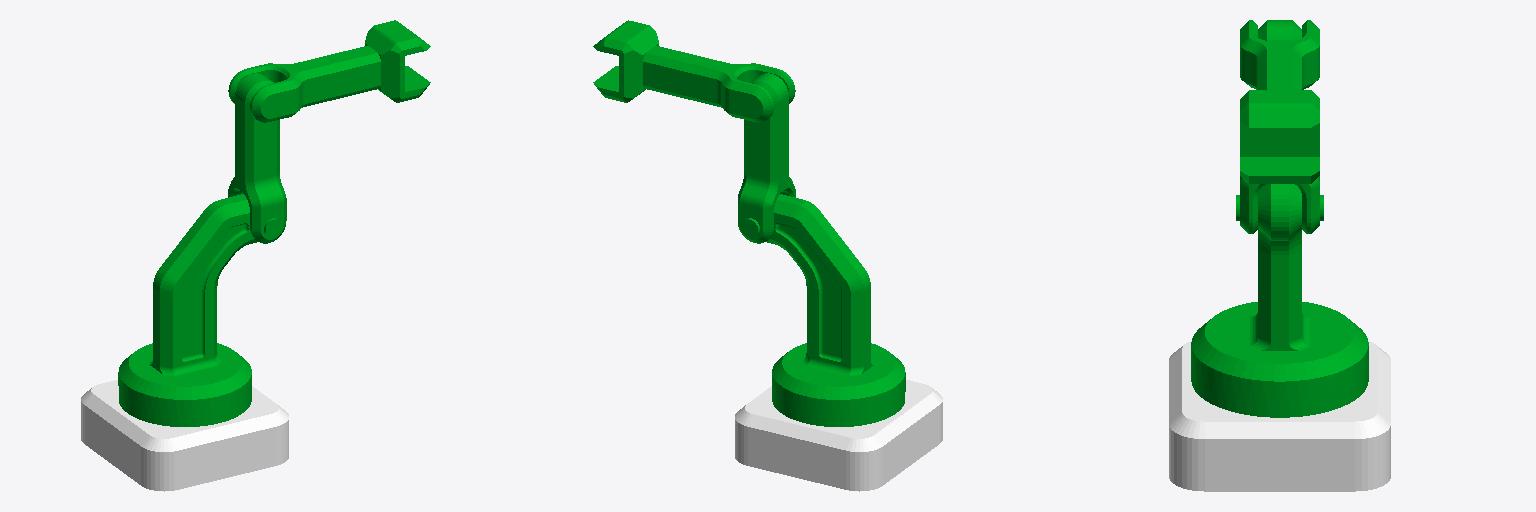
The robot description file, URDF, robot "my_arm":
<?xml version="1.0"?>

<robot name="my_arm">

    <material name="white">
        <color rgba="1 1 1 1"/>
    </material>

    <material name="green">
        <color rgba="0 0.702 0.173 1"/>
    </material>

    <link name="base_link">
        <visual>
            <geometry>
                <mesh filename="package://my_bot/meshes/base_link.STL" scale="10 10 10"/>
            </geometry>
            <origin rpy="0 0 0" xyz="0 0 0"/>
            <material name="white"/>
        </visual>
    </link>

    <link name="link_1">
        <visual>
            <geometry>
                <mesh filename="package://my_bot/meshes/link_1.STL" scale="10 10 10"/>
            </geometry>
            <origin rpy="0 0 0" xyz="0 0 0"/>
            <material name="green"/>
        </visual>
    </link>

    <link name="link_2">
        <visual>
            <geometry>
                <mesh filename="package://my_bot/meshes/link_2.STL" scale="10 10 10"/>
            </geometry>
            <origin rpy="0 0 0" xyz="0 0 0"/>
            <material name="green"/>
        </visual>
    </link>

    <link name="link_3">
        <visual>
            <geometry>
                <mesh filename="package://my_bot/meshes/link_3.STL" scale="10 10 10"/>
            </geometry>
            <origin rpy="0 0 0" xyz="0 0 0"/>
            <material name="green"/>
        </visual>
    </link>

    <joint name="joint_1" type="revolute">
        <parent link="base_link"/>
        <child link="link_1"/>
        <origin rpy="0 0 0" xyz="0 0 0.625"/>
        <limit lower="-3.14159" upper="3.14159" effort="10" velocity="3"/>
        <axis xyz="0 0 1"/>
    </joint>

    <joint name="joint_2" type="revolute">
        <parent link="link_1"/>
        <child link="link_2"/>
        <origin rpy="1.571 -1.571 0" xyz="0.25 0 0"/>
        <limit lower="-3.14159" upper="3.14159" effort="10" velocity="3"/>
        <axis xyz="0 0 1"/>
    </joint>

    <joint name="joint_3" type="revolute">
        <parent link="link_2"/>
        <child link="link_3"/>
        <origin rpy="0 0 -1.571" xyz="0.4 0 0"/>
        <limit lower="-3.14159" upper="3.14159" effort="10" velocity="3"/>
        <axis xyz="0 0 1"/>
    </joint>
</robot>

--- Render facts (derived) ---
3 views of the same robot in one strip: view 1: azimuth 30°, elevation 25°; view 2: azimuth 150°, elevation 25°; view 3: azimuth 270°, elevation 25° (orthographic).
Model my_arm with 4 links and 3 joints (3 revolute), rooted at base_link, posed all joints at 0.
Visible links, largest first — view 1: link_1, base_link, link_3, link_2; view 2: link_1, base_link, link_3, link_2; view 3: link_1, base_link, link_3, link_2.
Link boxes in pixels (box(x1,y1,x2,y2)): link_1: box(118, 194, 282, 426); base_link: box(81, 380, 288, 491); link_3: box(228, 20, 430, 122); link_2: box(228, 73, 286, 243); link_1: box(741, 194, 905, 426); base_link: box(735, 380, 942, 491); link_3: box(593, 20, 795, 122); link_2: box(738, 73, 795, 243); link_1: box(1191, 184, 1368, 417); base_link: box(1169, 341, 1390, 491); link_3: box(1240, 20, 1319, 183); link_2: box(1240, 20, 1319, 233).
Bounding box of the posed robot: 1.06 × 0.5 × 1.21 m (x, y, z).
Meshes: 4 distinct files referenced, 4 mesh visuals loaded (4 binary STL).